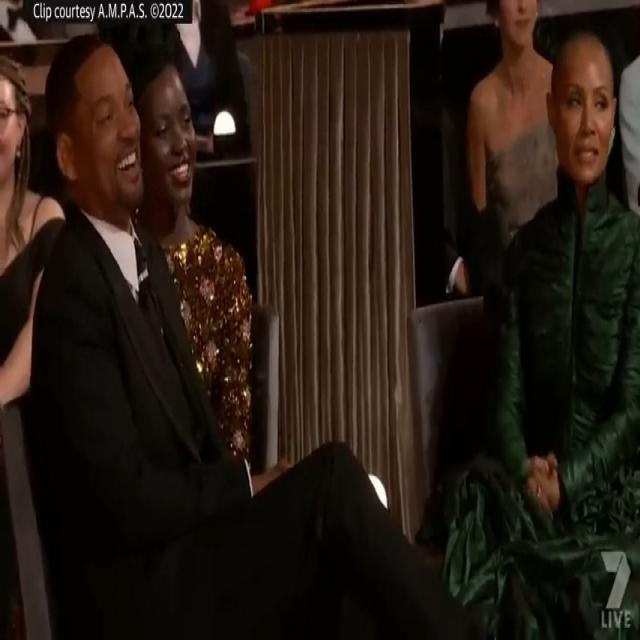non-fight: (30, 0, 640, 637), (23, 28, 490, 640)
